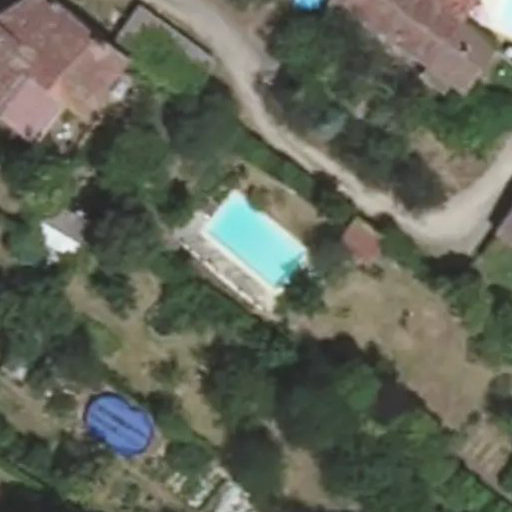pool: (206, 230, 305, 253)
